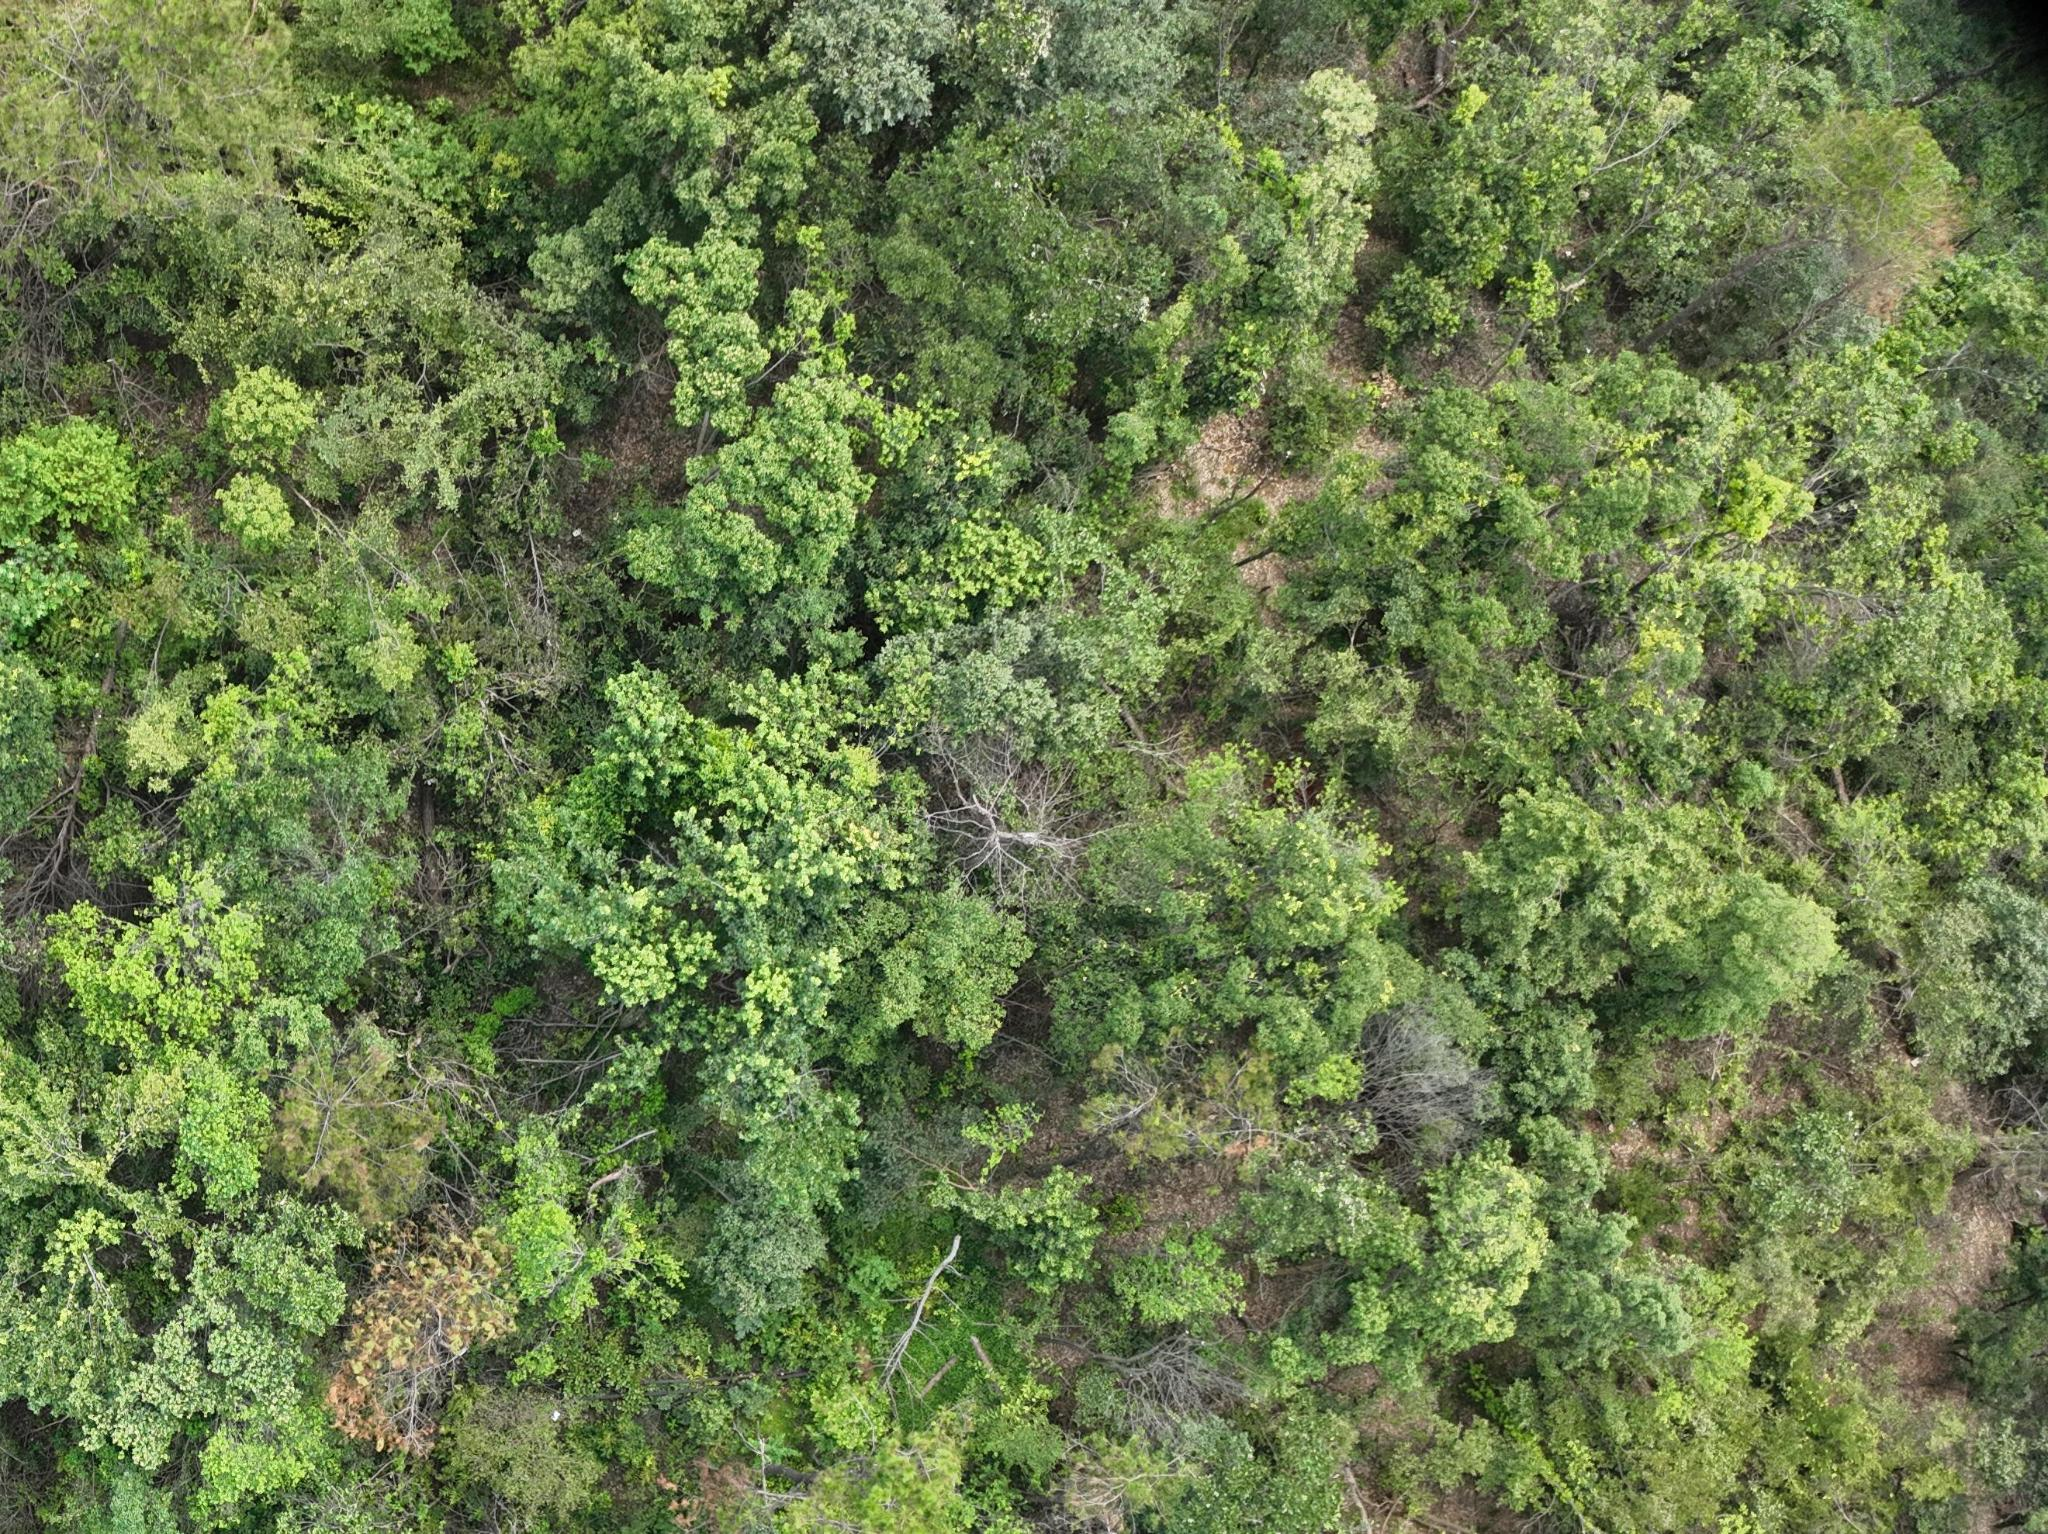dead: (1370, 1026, 1486, 1160)
heavy: (332, 1220, 506, 1461)
light: (276, 1033, 416, 1204)
